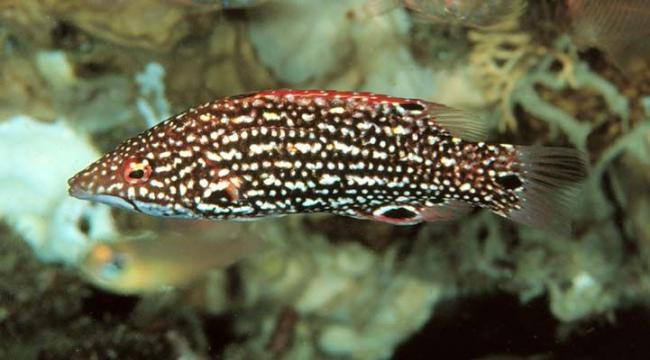fish: (68, 88, 584, 236)
